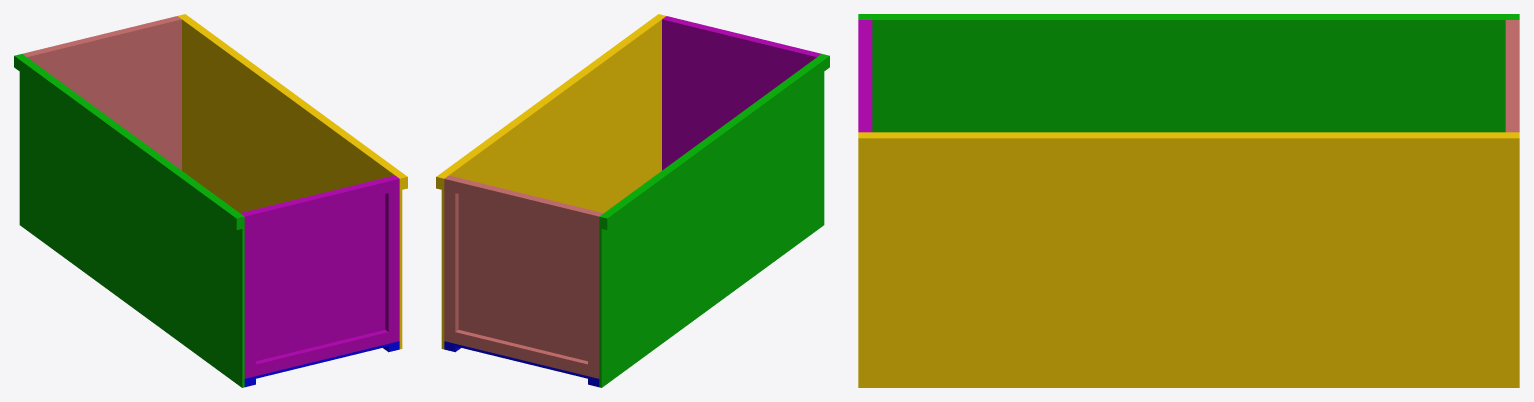
The model's file is result.glb.
3 renders of one model, left to right at view 1: azimuth 30°, elevation 25°; view 2: azimuth 150°, elevation 25°; view 3: azimuth 270°, elevation 25°, orthographic. The views are drawn at different scales.
Parts seen in each view (by area): view 1: 1213e187-eb0f-4492-a62b-2e04f65a3f5b__Box_6, f70d923d-7c50-4c83-aeab-16aa9aea3a24__undefined, 86d53945-7485-438e-b502-1e7273132327__Box_3, d31d1e67-1134-4260-8c7e-cbb01e4afde3__undefined, 9be41261-3863-4741-897f-b916a2d6db08__Box_7, a3d1dfb0-6261-4d50-b11b-689be0d87c47__undefined, 4702604d-2869-40ec-a1ae-05a15df58bee__undefined, 769b4ee1-8118-43ba-b908-036b956fab4b__Box_5, 3537b070-7918-4b58-a1c8-f700e78ac200__Box_4, 875cdc49-a53e-4a4f-8591-4f6c2ffc5107__undefined, 9b2ffb65-6974-477f-a08f-7d93289c54c3__Box, be395804-cff2-4ed6-9506-6627827bf3fa__undefined; view 2: 1213e187-eb0f-4492-a62b-2e04f65a3f5b__Box_6, f70d923d-7c50-4c83-aeab-16aa9aea3a24__undefined, d31d1e67-1134-4260-8c7e-cbb01e4afde3__undefined, 86d53945-7485-438e-b502-1e7273132327__Box_3, 9be41261-3863-4741-897f-b916a2d6db08__Box_7, ad584053-41ee-4ada-88fa-6151c94572f6__undefined, be395804-cff2-4ed6-9506-6627827bf3fa__undefined, 9c9fabd3-c1a4-435a-9436-e862e9683203__undefined, 661ea824-a6c8-45ea-a141-f1b7a84bf01f__undefined, 875cdc49-a53e-4a4f-8591-4f6c2ffc5107__undefined, 9b2ffb65-6974-477f-a08f-7d93289c54c3__Box, 4702604d-2869-40ec-a1ae-05a15df58bee__undefined; view 3: f70d923d-7c50-4c83-aeab-16aa9aea3a24__undefined, 1213e187-eb0f-4492-a62b-2e04f65a3f5b__Box_6, 875cdc49-a53e-4a4f-8591-4f6c2ffc5107__undefined, 9be41261-3863-4741-897f-b916a2d6db08__Box_7, 4702604d-2869-40ec-a1ae-05a15df58bee__undefined, be395804-cff2-4ed6-9506-6627827bf3fa__undefined, 86d53945-7485-438e-b502-1e7273132327__Box_3, d31d1e67-1134-4260-8c7e-cbb01e4afde3__undefined.
Boxes of the visible parts, box(x1,y1,x2,y2) form: 1213e187-eb0f-4492-a62b-2e04f65a3f5b__Box_6: box(19, 54, 244, 387); f70d923d-7c50-4c83-aeab-16aa9aea3a24__undefined: box(178, 15, 402, 349); 86d53945-7485-438e-b502-1e7273132327__Box_3: box(240, 175, 396, 361); d31d1e67-1134-4260-8c7e-cbb01e4afde3__undefined: box(25, 18, 181, 170); 9be41261-3863-4741-897f-b916a2d6db08__Box_7: box(14, 54, 242, 230); a3d1dfb0-6261-4d50-b11b-689be0d87c47__undefined: box(385, 176, 399, 343); 4702604d-2869-40ec-a1ae-05a15df58bee__undefined: box(253, 179, 388, 225); 769b4ee1-8118-43ba-b908-036b956fab4b__Box_5: box(256, 330, 388, 375); 3537b070-7918-4b58-a1c8-f700e78ac200__Box_4: box(242, 211, 255, 378); 875cdc49-a53e-4a4f-8591-4f6c2ffc5107__undefined: box(180, 14, 407, 189); 9b2ffb65-6974-477f-a08f-7d93289c54c3__Box: box(244, 341, 399, 381); be395804-cff2-4ed6-9506-6627827bf3fa__undefined: box(34, 19, 168, 53); 1213e187-eb0f-4492-a62b-2e04f65a3f5b__Box_6: box(599, 54, 824, 387); f70d923d-7c50-4c83-aeab-16aa9aea3a24__undefined: box(441, 15, 665, 349); d31d1e67-1134-4260-8c7e-cbb01e4afde3__undefined: box(447, 175, 603, 361); 86d53945-7485-438e-b502-1e7273132327__Box_3: box(662, 18, 818, 170); 9be41261-3863-4741-897f-b916a2d6db08__Box_7: box(601, 54, 829, 230); ad584053-41ee-4ada-88fa-6151c94572f6__undefined: box(444, 176, 458, 343); be395804-cff2-4ed6-9506-6627827bf3fa__undefined: box(455, 179, 590, 225); 9c9fabd3-c1a4-435a-9436-e862e9683203__undefined: box(455, 330, 587, 375); 661ea824-a6c8-45ea-a141-f1b7a84bf01f__undefined: box(588, 211, 601, 378); 875cdc49-a53e-4a4f-8591-4f6c2ffc5107__undefined: box(436, 14, 663, 189); 9b2ffb65-6974-477f-a08f-7d93289c54c3__Box: box(444, 341, 599, 381); 4702604d-2869-40ec-a1ae-05a15df58bee__undefined: box(675, 19, 809, 53); f70d923d-7c50-4c83-aeab-16aa9aea3a24__undefined: box(858, 132, 1519, 387); 1213e187-eb0f-4492-a62b-2e04f65a3f5b__Box_6: box(858, 18, 1519, 132); 875cdc49-a53e-4a4f-8591-4f6c2ffc5107__undefined: box(858, 134, 1519, 155); 9be41261-3863-4741-897f-b916a2d6db08__Box_7: box(858, 14, 1519, 17); 4702604d-2869-40ec-a1ae-05a15df58bee__undefined: box(858, 28, 867, 124); be395804-cff2-4ed6-9506-6627827bf3fa__undefined: box(1510, 28, 1519, 124); 86d53945-7485-438e-b502-1e7273132327__Box_3: box(868, 20, 872, 132); d31d1e67-1134-4260-8c7e-cbb01e4afde3__undefined: box(1505, 20, 1509, 132).
Size of the model in its own units: 552 by 526 by 1242.
